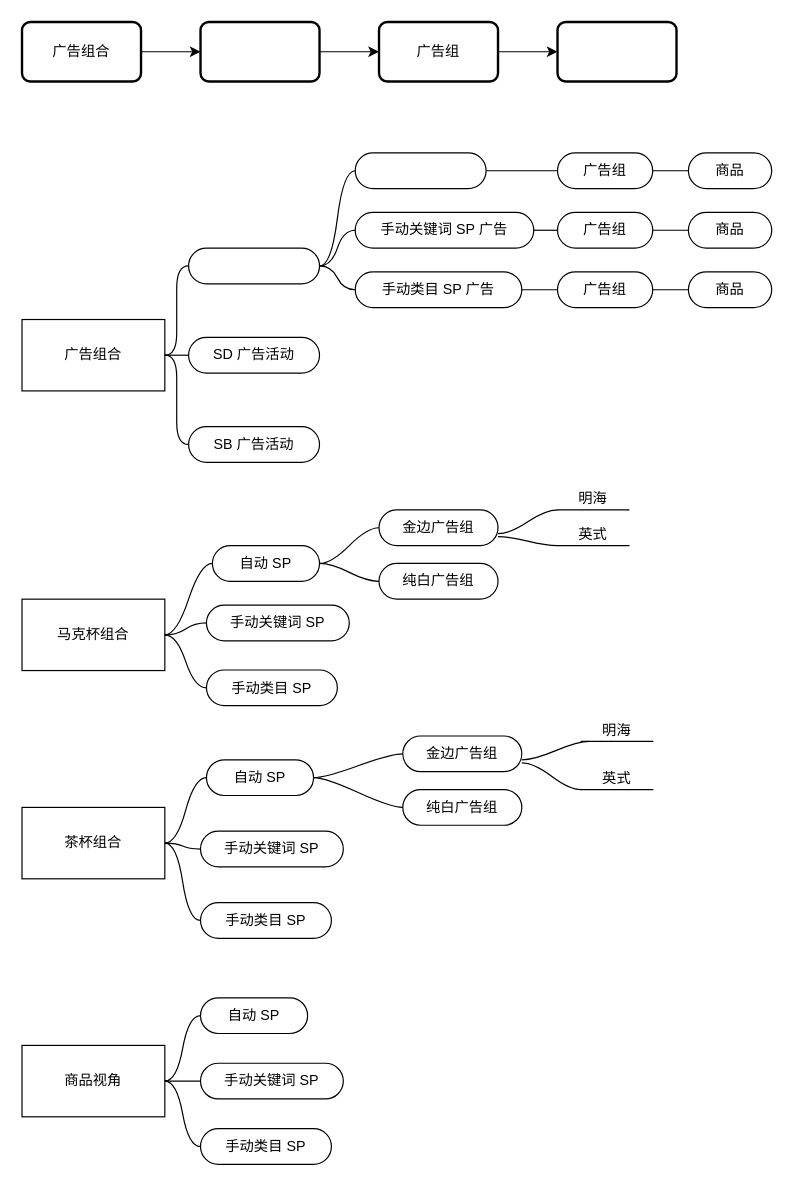
Some shapes in this 793 by 1185 pixel diagram are drawn without their labels. Here are the shapes that lost their labels. From the top down, the centre of each, then its label:
point (259, 51): 广告活动
point (616, 51): 广告
point (420, 170): 自动 SP 广告
point (253, 265): SP 广告活动
